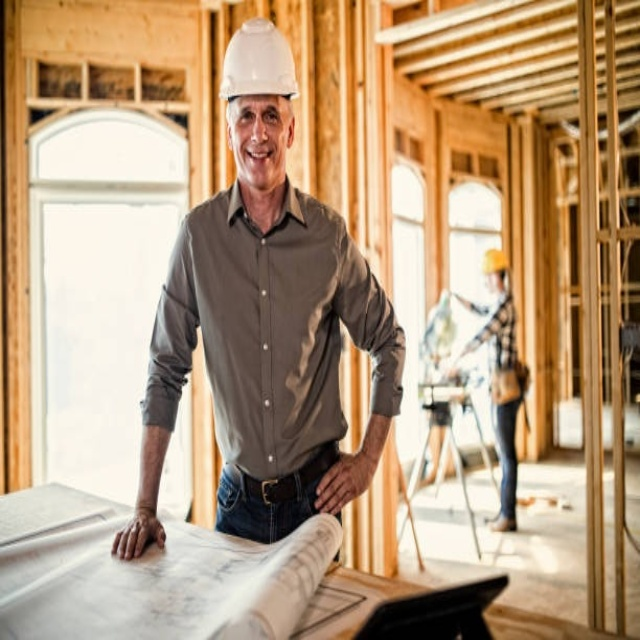Sin_gafas: (230, 106, 290, 131)
Sin_guantes: (313, 447, 367, 515), (111, 508, 166, 559)
Sin_mascara: (242, 141, 276, 179)
